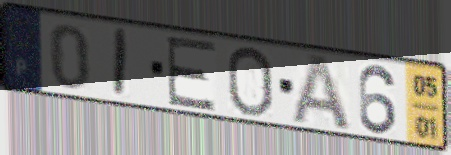0: (46, 21, 95, 92)
6: (356, 61, 399, 137)
A: (289, 52, 354, 133)
E: (163, 34, 218, 113)
I: (110, 25, 131, 100)
O: (225, 45, 275, 119)
